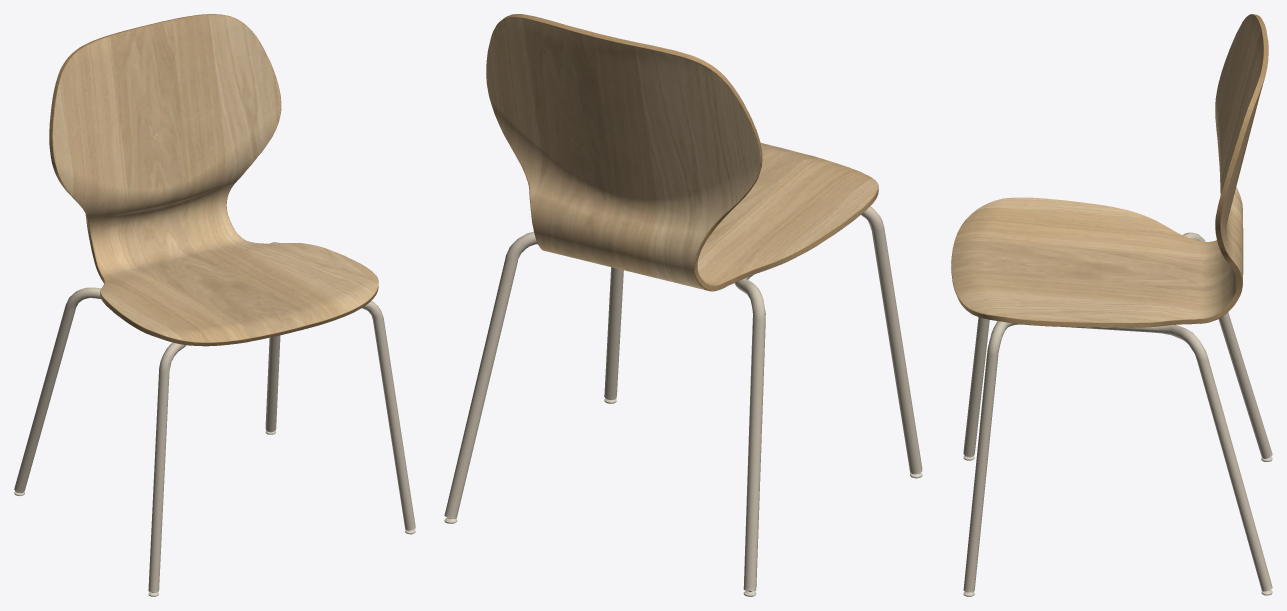
File: skalsta_krzeso_79608745.glb
3 views of the same model, side by side, from view 1: azimuth 30°, elevation 25°; view 2: azimuth 150°, elevation 25°; view 3: azimuth 270°, elevation 25° (orthographic). The views are drawn at different scales.
Parts seen in each view (by area): view 1: skalsta_krzeso_79608745; view 2: skalsta_krzeso_79608745; view 3: skalsta_krzeso_79608745.
Boxes of the visible parts, box(x1,y1,x2,y2) form: skalsta_krzeso_79608745: box(14, 14, 415, 596); skalsta_krzeso_79608745: box(444, 14, 922, 596); skalsta_krzeso_79608745: box(951, 14, 1272, 596).
Bounding box in the file's own units: 0.52 × 0.8201 × 0.5.
2 materials, 2 textured.
